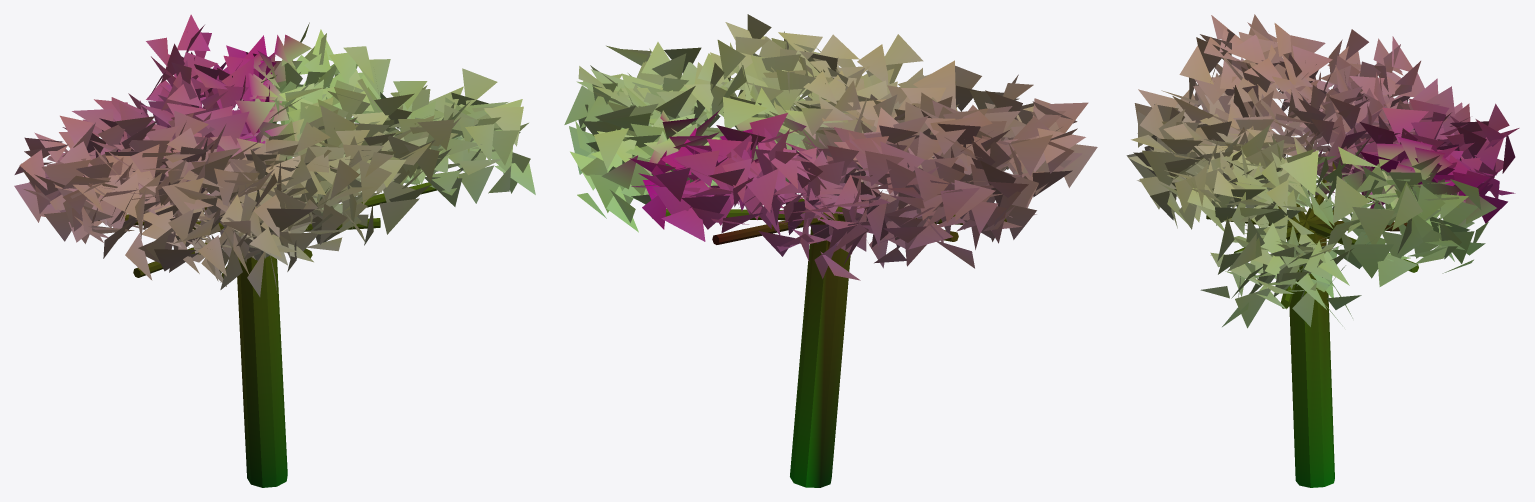
The model's file is mature_savanna_01.glb.
3 renders of one model, left to right at view 1: azimuth 30°, elevation 25°; view 2: azimuth 150°, elevation 25°; view 3: azimuth 270°, elevation 25°, orthographic. The views are drawn at different scales.
Parts seen in each view (by area): view 1: mature_savanna_01; view 2: mature_savanna_01; view 3: mature_savanna_01.
Boxes of the visible parts, x1,y1,x2,y2 form: mature_savanna_01: [14, 14, 535, 487]; mature_savanna_01: [564, 14, 1097, 487]; mature_savanna_01: [1126, 14, 1519, 487].
Bounding box in the file's own units: 11.42 × 8.88 × 8.53.
